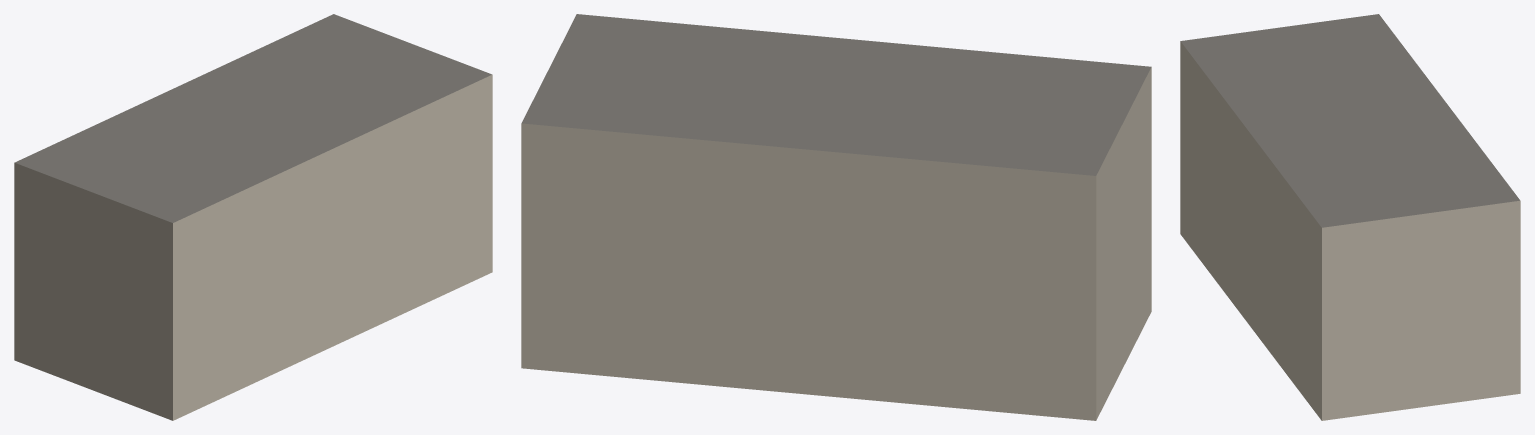
3 views of the same model, side by side, from view 1: azimuth 30°, elevation 25°; view 2: azimuth 150°, elevation 25°; view 3: azimuth 270°, elevation 25° (orthographic). The views are drawn at different scales.
Parts seen in each view (by area): view 1: HP-w1203858313; view 2: HP-w1203858313; view 3: HP-w1203858313.
Boxes of the visible parts, x1,y1,x2,y2 form: HP-w1203858313: (14, 14, 492, 420); HP-w1203858313: (521, 14, 1151, 420); HP-w1203858313: (1180, 14, 1520, 420).
Bounding box in the file's own units: 28.49 × 12 × 19.15.
